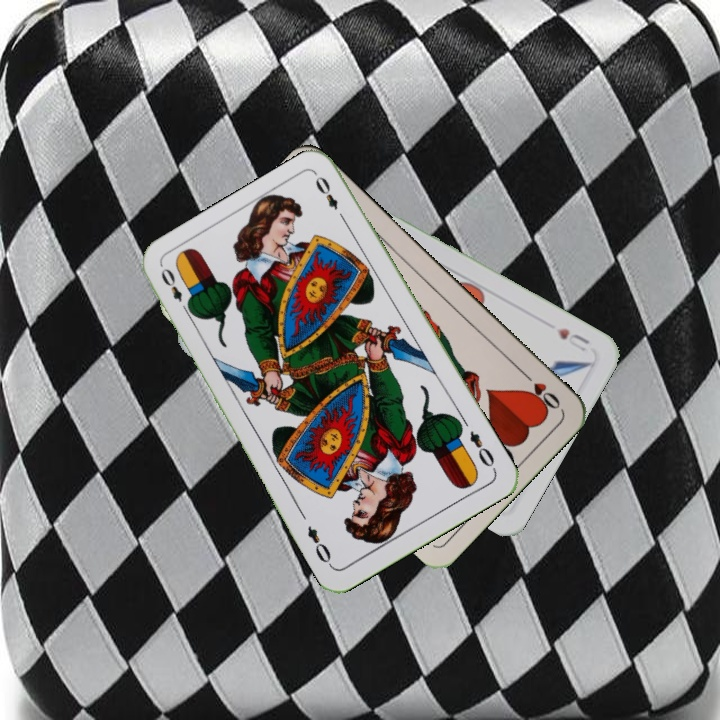EO: (157, 264, 194, 318), (465, 426, 497, 470)
HO: (517, 366, 563, 413)
HU: (553, 323, 592, 354)
